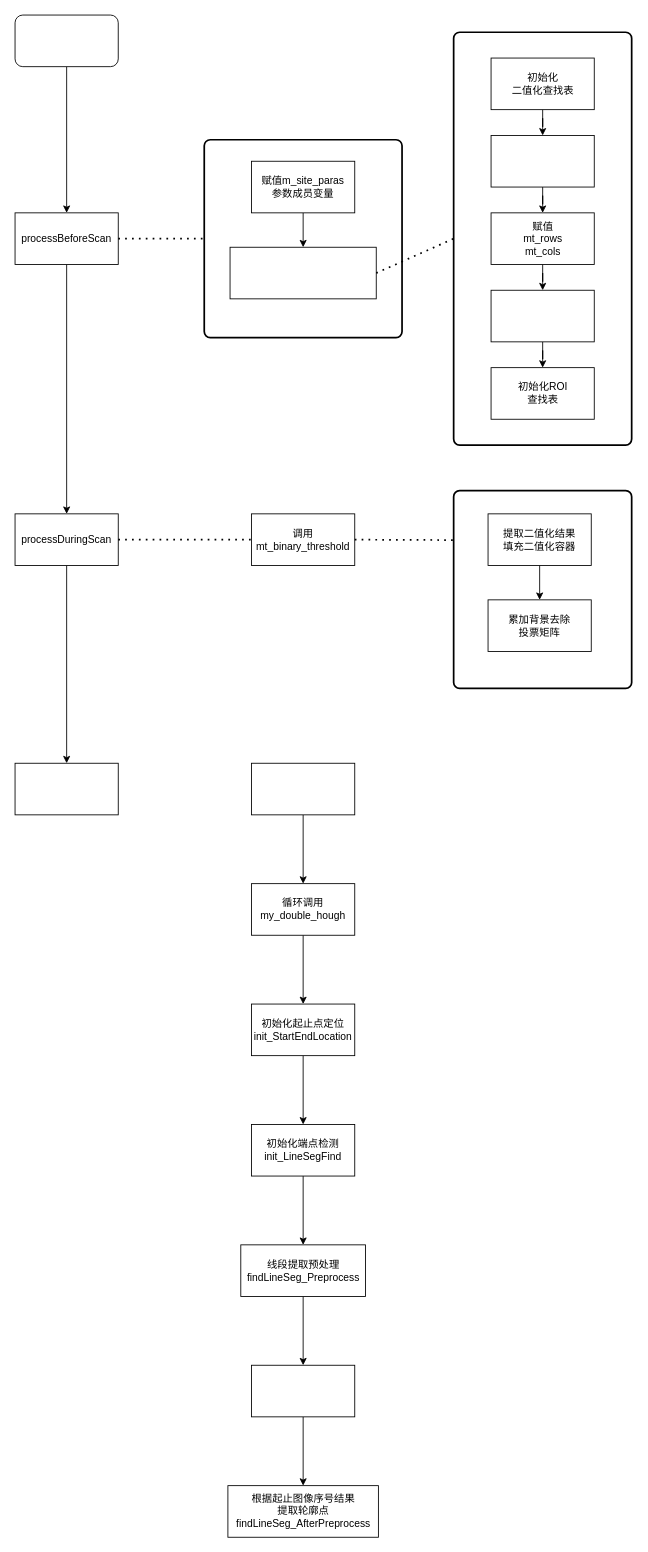
Some shapes in this 648 by 1552 pixel diagram are drawn without their labels. The shapes that lost their labels are listed below. From the top down, each one's centre as x and y in pixels, then its label:
At point (66, 40): "核心流程".
At point (542, 161): "初始化 背景去除投票矩阵".
At point (302, 272): "调用 init_mt_binary_threshold".
At point (542, 315): "二值化结果 容器清空".
At point (66, 788): "processAfterScan".
At point (303, 788): "初始化hough init_double_hough".
At point (303, 1390): "线1、2 起止图像序号定位 locateStartEnd".
